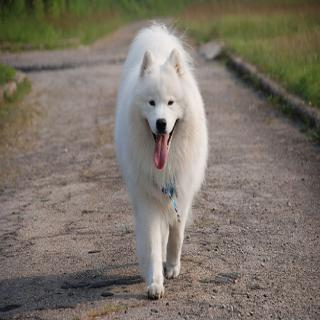dog: (116, 25, 212, 302)
